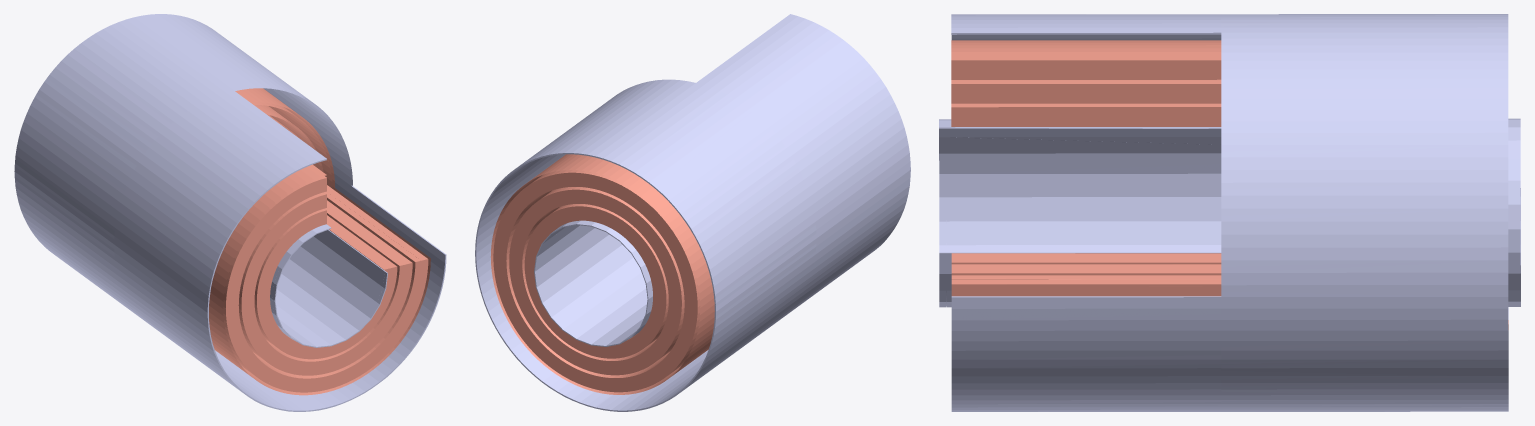
File: SCT-BAR-cut4.glb
3 renders of one model, left to right at view 1: azimuth 30°, elevation 25°; view 2: azimuth 150°, elevation 25°; view 3: azimuth 270°, elevation 25°, orthographic. The views are drawn at different scales.
Visible parts, largest first — view 1: S_Mesh_1-050, S_Mesh_0-076; view 2: S_Mesh_1-050, S_Mesh_0-076; view 3: S_Mesh_1-050, S_Mesh_0-076.
Part boxes in pixels (<box>): S_Mesh_1-050: <box>14,14,446,411</box>; S_Mesh_0-076: <box>209,88,430,395</box>; S_Mesh_1-050: <box>475,14,910,411</box>; S_Mesh_0-076: <box>490,154,714,394</box>; S_Mesh_1-050: <box>939,14,1520,411</box>; S_Mesh_0-076: <box>951,40,1508,329</box>.
Size of the model in its own units: 1.09 by 1.09 by 1.6.
